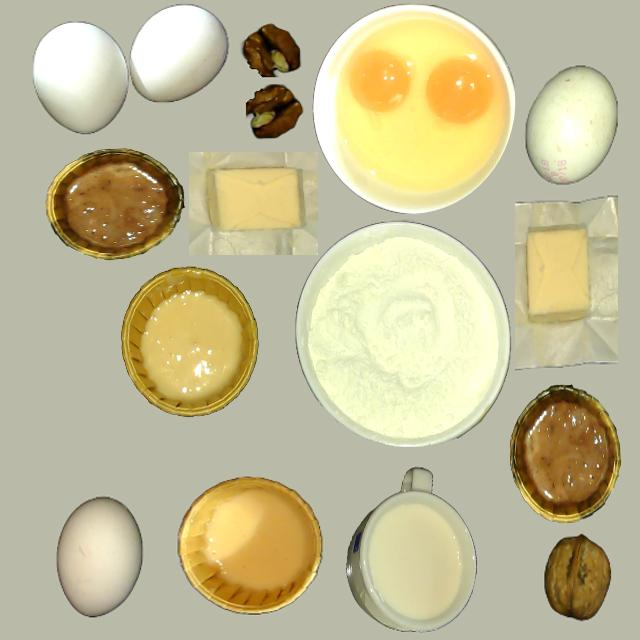Egg: (426, 57, 492, 123), (351, 49, 412, 112)
Flour: (297, 223, 499, 441)
Milk: (371, 506, 461, 618)
Walnut: (543, 536, 611, 618)
